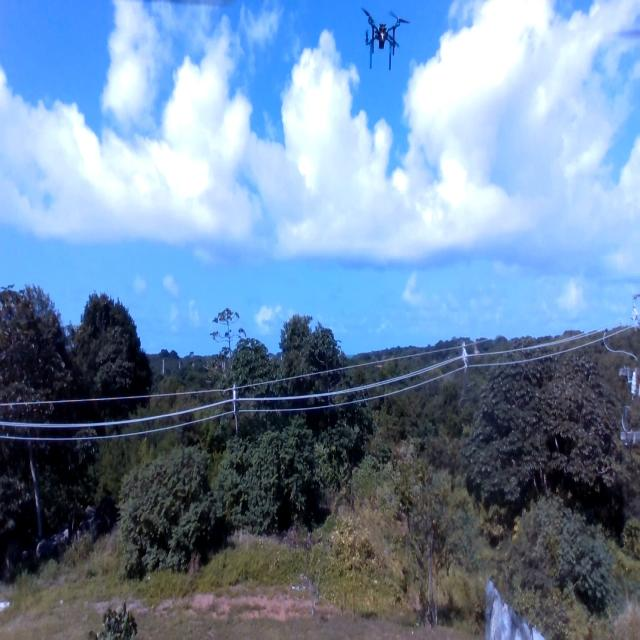-uav-: (355, 0, 411, 81)
